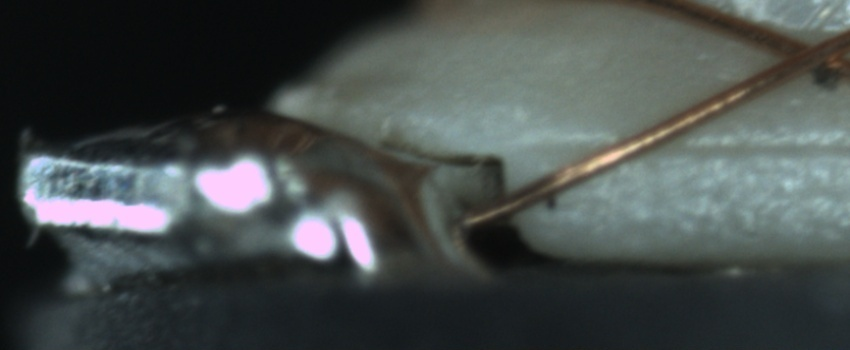CL: (756, 18, 845, 83)
DL: (553, 111, 844, 183)
